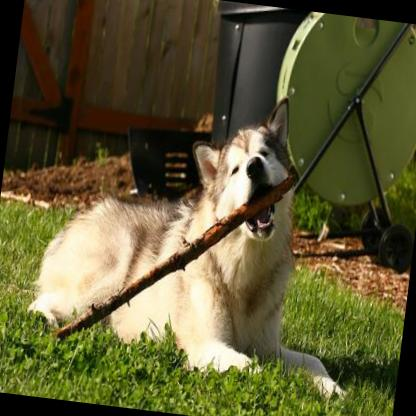malamute: (19, 67, 381, 402)
